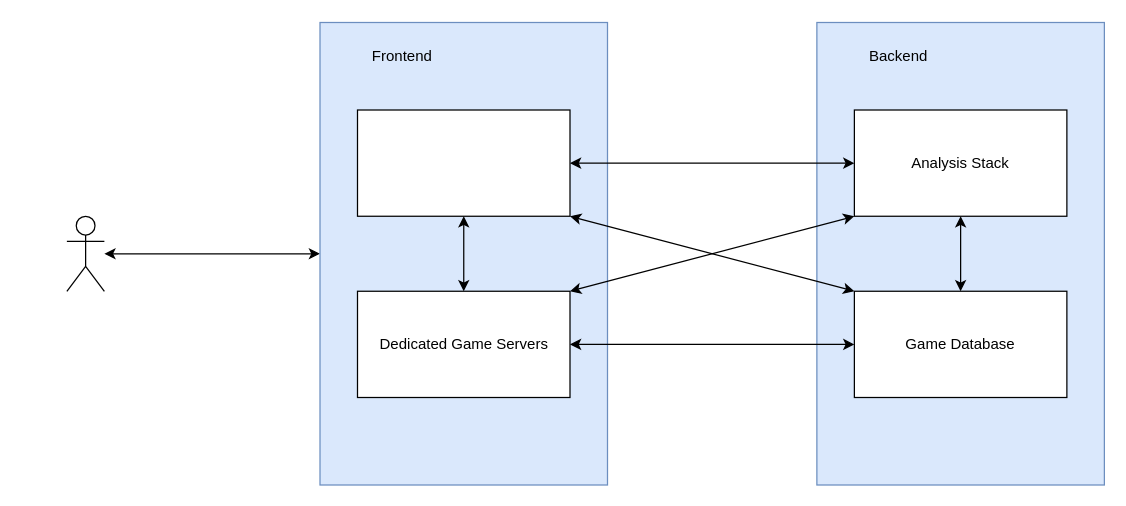
Image size: 1126x506. Some labels were removed from this diagram. Here are the shapes that lost their labels. From the top down, the centre of each, then its label:
[463,162]: Game Platform Service
[85,253]: User / Game Client
